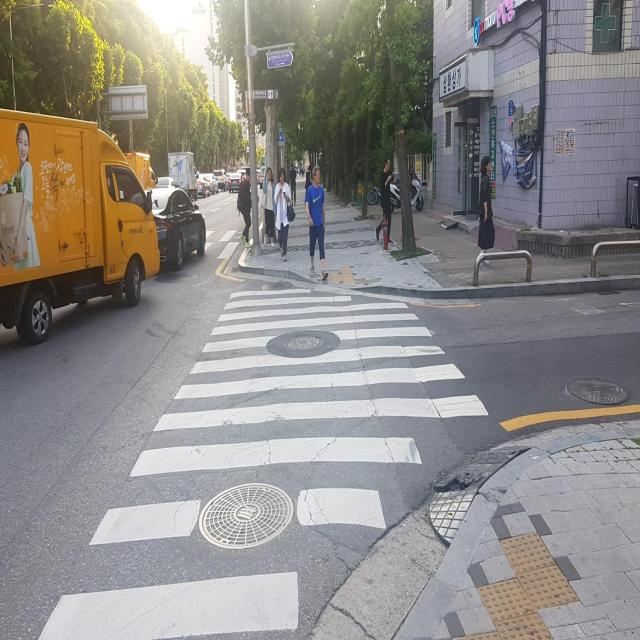횡단보도: (34, 287, 490, 640), (174, 224, 241, 264)
